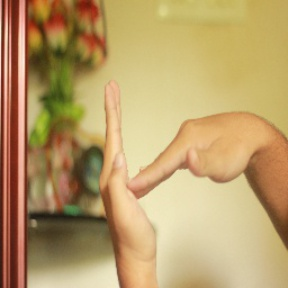Z: (87, 74, 260, 266)
